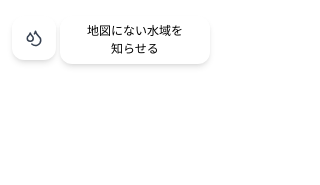
Test: 水域から選択・調査・情報提供 › 表示を隠した後にcommunity取得が完了しても、地図へ勝手に再表示しない
Later steps or results of the test are not shown.
Click the button named "近くの水域を探す" at (34, 38), box left=12, top=16, right=56, bottom=60
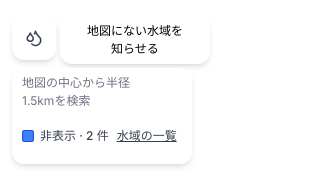
Result: the button "非表示 · 2 件" is shown
Click the button "非表示 · 2 件" at (65, 136), box left=22, top=114, right=109, bottom=158
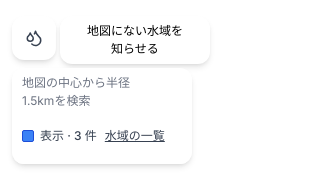
Result: the button "表示 · 3 件" is not pressed at left=22, top=114, right=97, bottom=158
